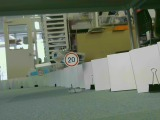speed_20: (62, 51, 81, 67)
